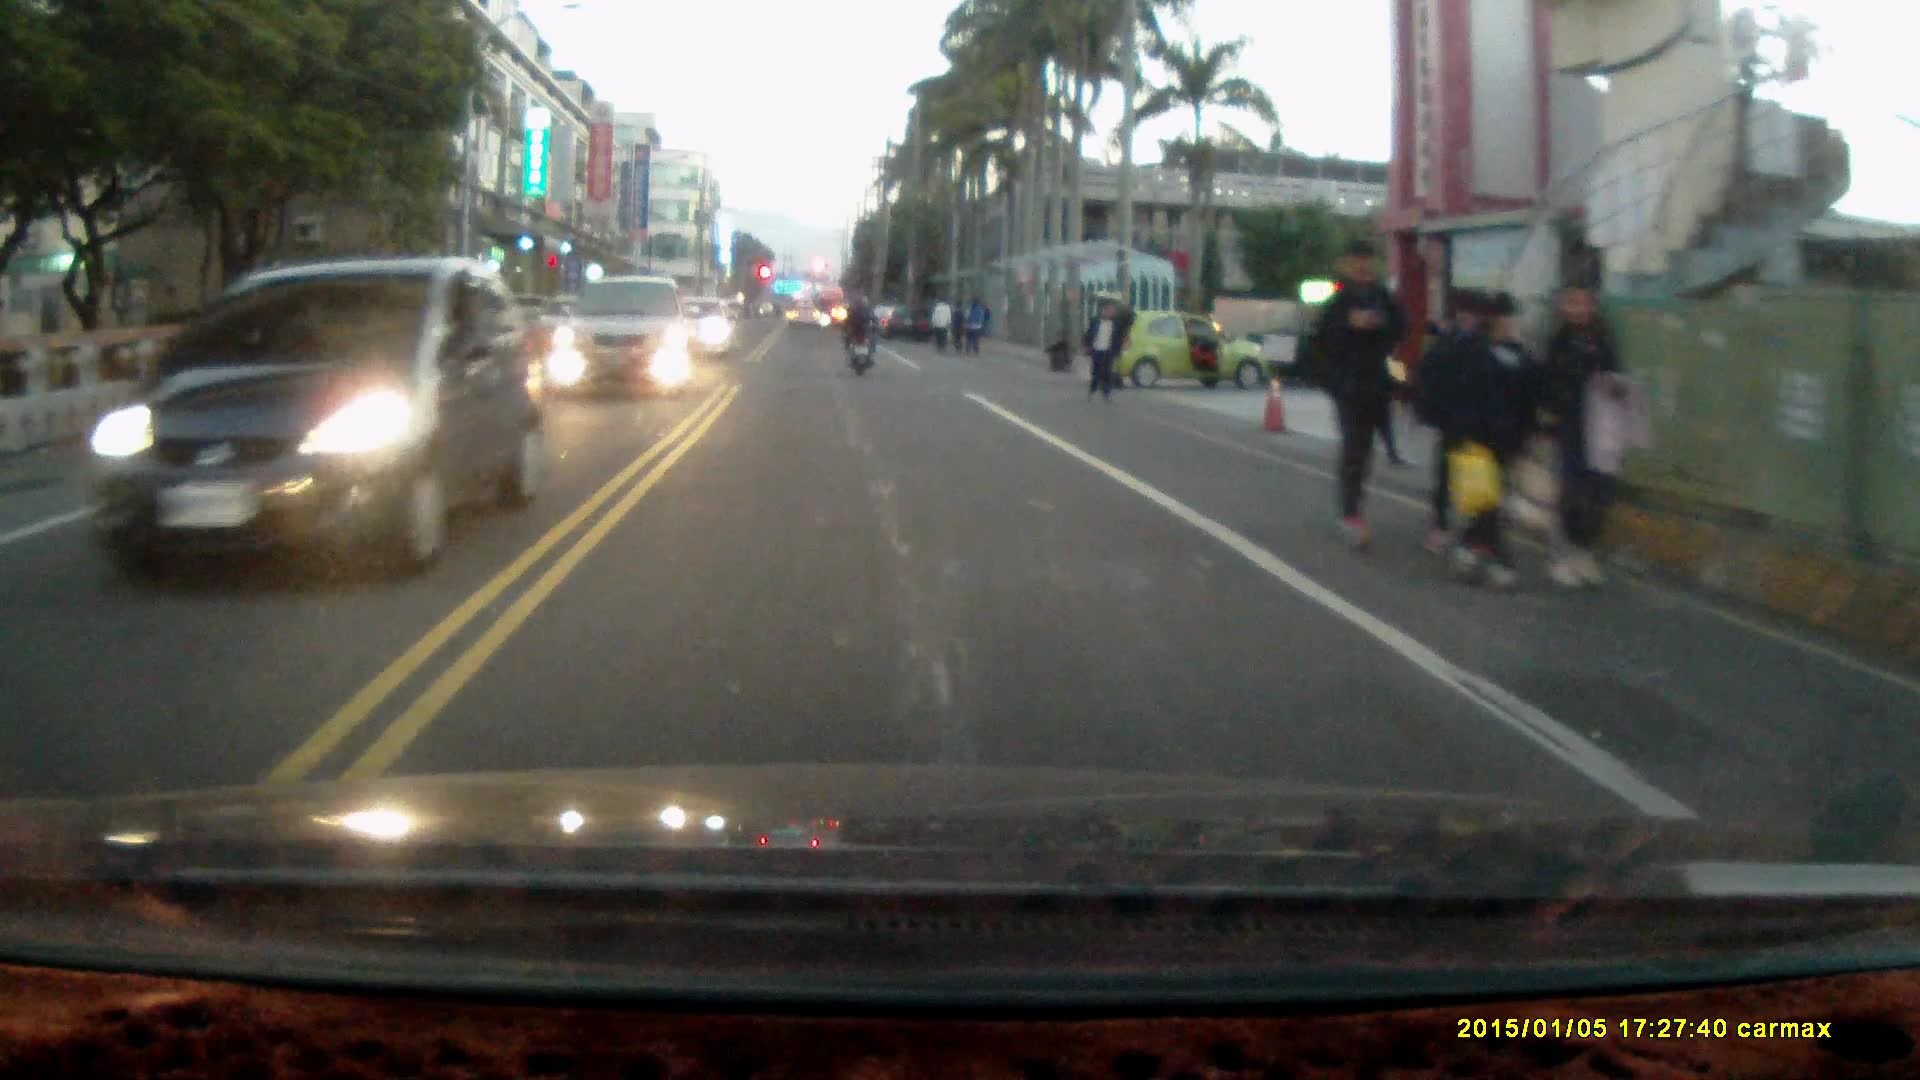pedestrian: (1434, 283, 1544, 591), (1307, 236, 1406, 559), (1531, 279, 1630, 595), (1077, 297, 1120, 406), (959, 293, 985, 355), (1040, 323, 1072, 373), (931, 289, 952, 355)
rider: (838, 293, 879, 378)
vehicle: (36, 254, 535, 585), (1088, 294, 1264, 391), (551, 275, 697, 393)
